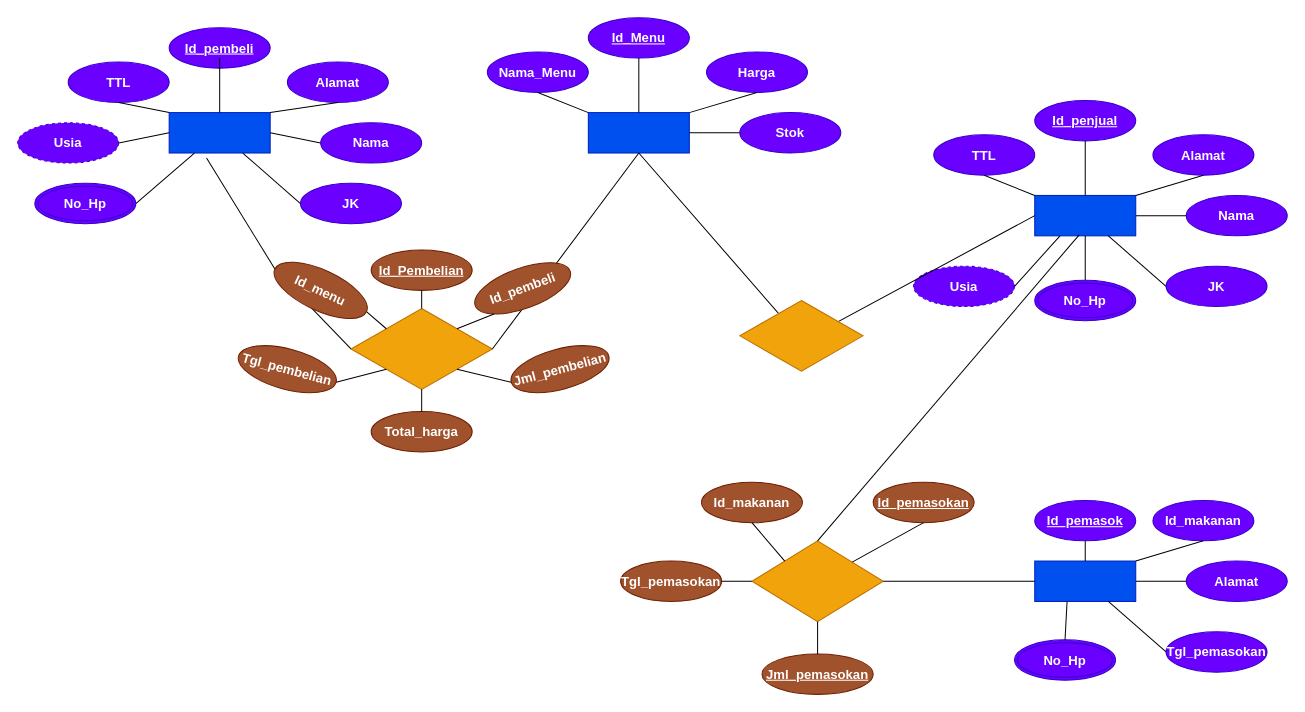
The diagram is 1305 pixels wide and 712 high, and some of its shapes have lost their labels. The centre of each missing label's shape, as x and y in pixels:
Dibuat: (801,335)
Memasok: (817,581)
Membeli: (421,348)
Menu: (638,132)
Pemasok: (1085,580)
Pembeli: (219,132)
Penjual: (1085,215)
